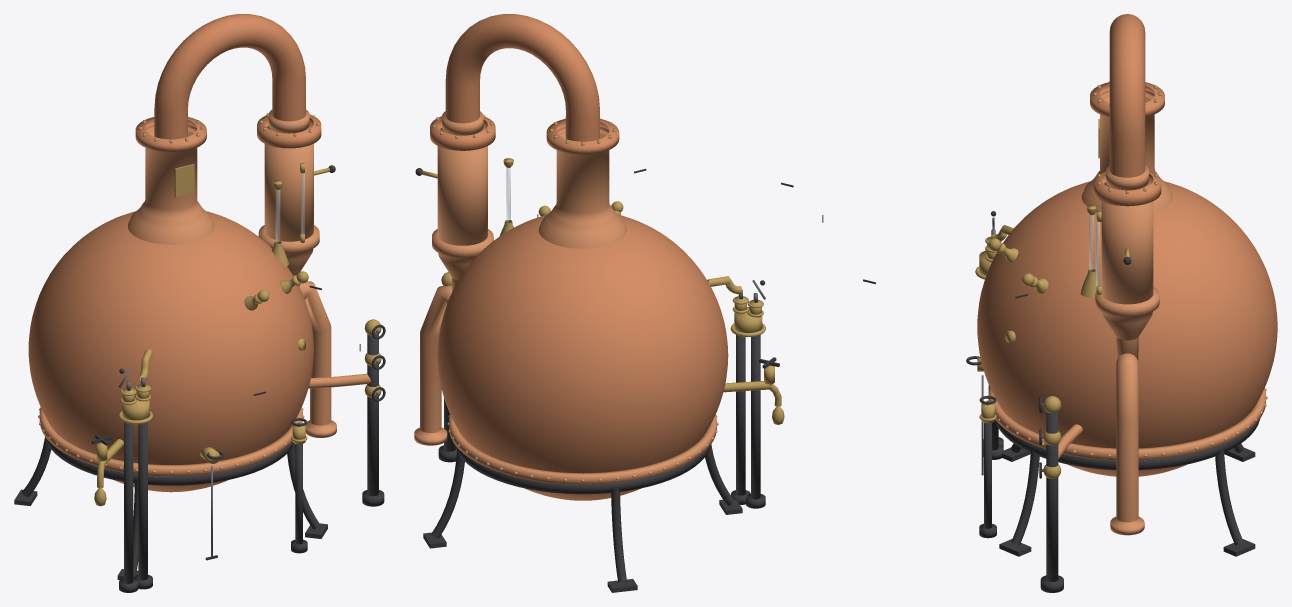
File: vacuum-sugar-apparatus.glb
3 views of the same model, side by side, from view 1: azimuth 30°, elevation 25°; view 2: azimuth 150°, elevation 25°; view 3: azimuth 270°, elevation 25° (orthographic). The views are drawn at different scales.
Visible parts, largest first — view 1: Pan, SwanNeck, DomeNeck, CondenserBody, GirdleBandTop, Downcomer, GirdleBand, StackPipe, Standpipe_-0.945, Standpipe_-0.815, DomeFlange, CondenserTopFlange (+9 smaller); view 2: Pan, SwanNeck, DomeNeck, CondenserBody, GirdleBandTop, Downcomer, GirdleBand, Standpipe_-0.945, Standpipe_-0.815, DomeFlange, CondenserBottom, CondenserTopFlange (+5 smaller); view 3: Pan, SwanNeck, CondenserBody, Downcomer, GirdleBandTop, GirdleBand, DomeNeck, StackPipe, CondenserBottom, CondenserTopFlange, DomeFlange, Bracket_3 (+3 smaller).
Boxes of the visible parts, <box> form: Pan: <box>28,211,313,492</box>; SwanNeck: <box>154,14,305,139</box>; DomeNeck: <box>127,125,214,244</box>; CondenserBody: <box>264,125,313,241</box>; GirdleBandTop: <box>39,407,302,476</box>; Downcomer: <box>293,274,331,425</box>; GirdleBand: <box>45,436,293,485</box>; StackPipe: <box>367,334,378,496</box>; Standpipe_-0.945: <box>124,422,133,583</box>; Standpipe_-0.815: <box>138,422,147,580</box>; DomeFlange: <box>135,117,206,152</box>; CondenserTopFlange: <box>257,114,321,148</box>; Pan: <box>437,215,728,500</box>; SwanNeck: <box>445,14,599,141</box>; DomeNeck: <box>538,127,626,248</box>; CondenserBody: <box>437,128,487,245</box>; GirdleBandTop: <box>449,414,716,484</box>; Downcomer: <box>420,277,458,432</box>; GirdleBand: <box>454,444,711,494</box>; Standpipe_-0.945: <box>751,335,760,499</box>; Standpipe_-0.815: <box>736,335,745,495</box>; DomeFlange: <box>546,119,619,154</box>; CondenserBottom: <box>432,229,493,280</box>; CondenserTopFlange: <box>430,116,495,150</box>; Pan: <box>977,181,1277,476</box>; SwanNeck: <box>1109,14,1145,177</box>; CondenserBody: <box>1101,182,1153,304</box>; Downcomer: <box>1116,337,1138,522</box>; GirdleBandTop: <box>988,388,1265,460</box>; GirdleBand: <box>995,419,1259,470</box>; DomeNeck: <box>1081,90,1172,212</box>; StackPipe: <box>1046,412,1058,581</box>; CondenserBottom: <box>1095,287,1159,340</box>; CondenserTopFlange: <box>1093,170,1161,206</box>; DomeFlange: <box>1090,82,1164,117</box>; Bracket_3: <box>1011,449,1039,545</box>.
Size of the model in its own units: 2.78 by 4.12 by 3.33.
